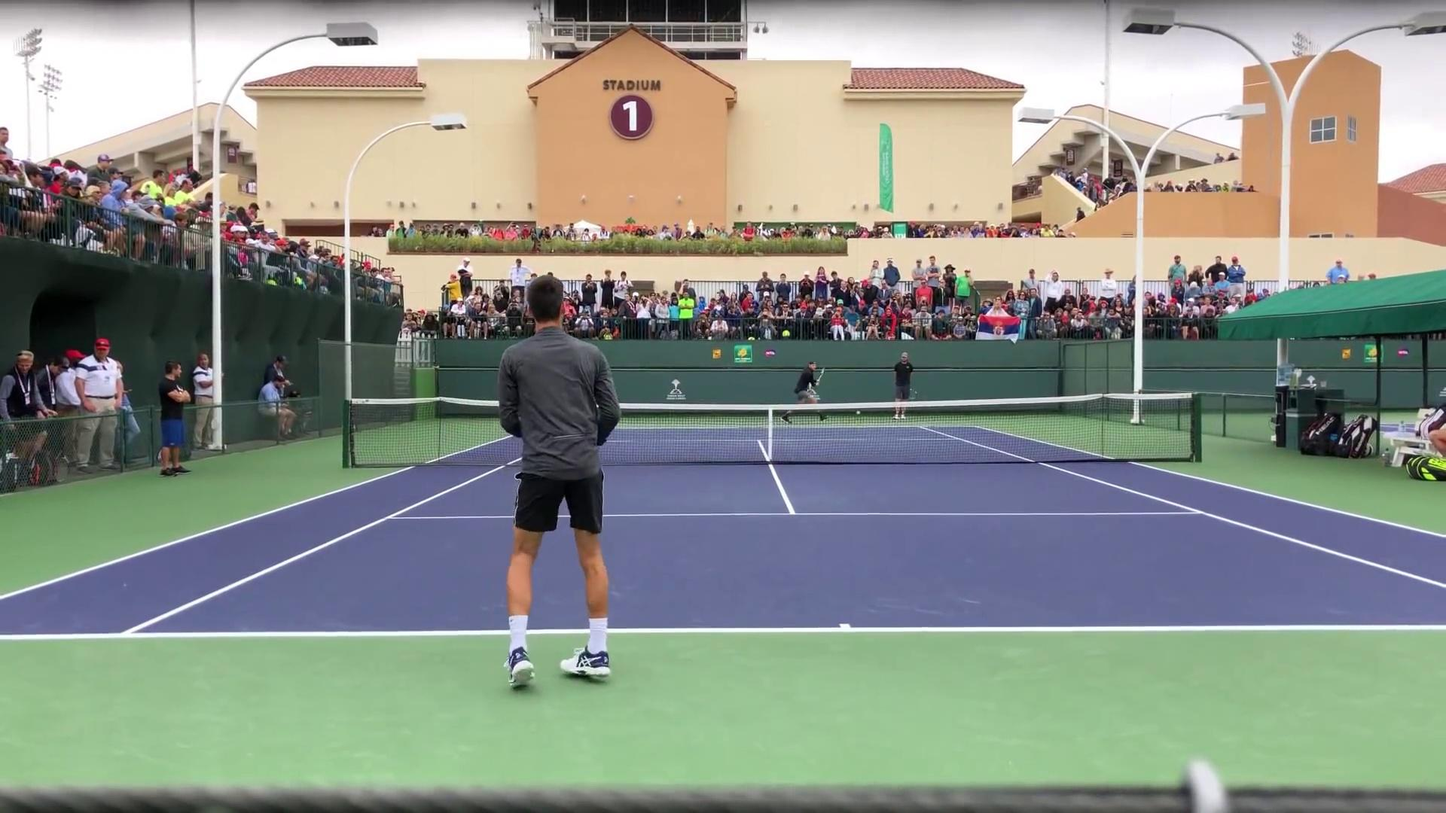ball: (853, 406, 864, 418)
